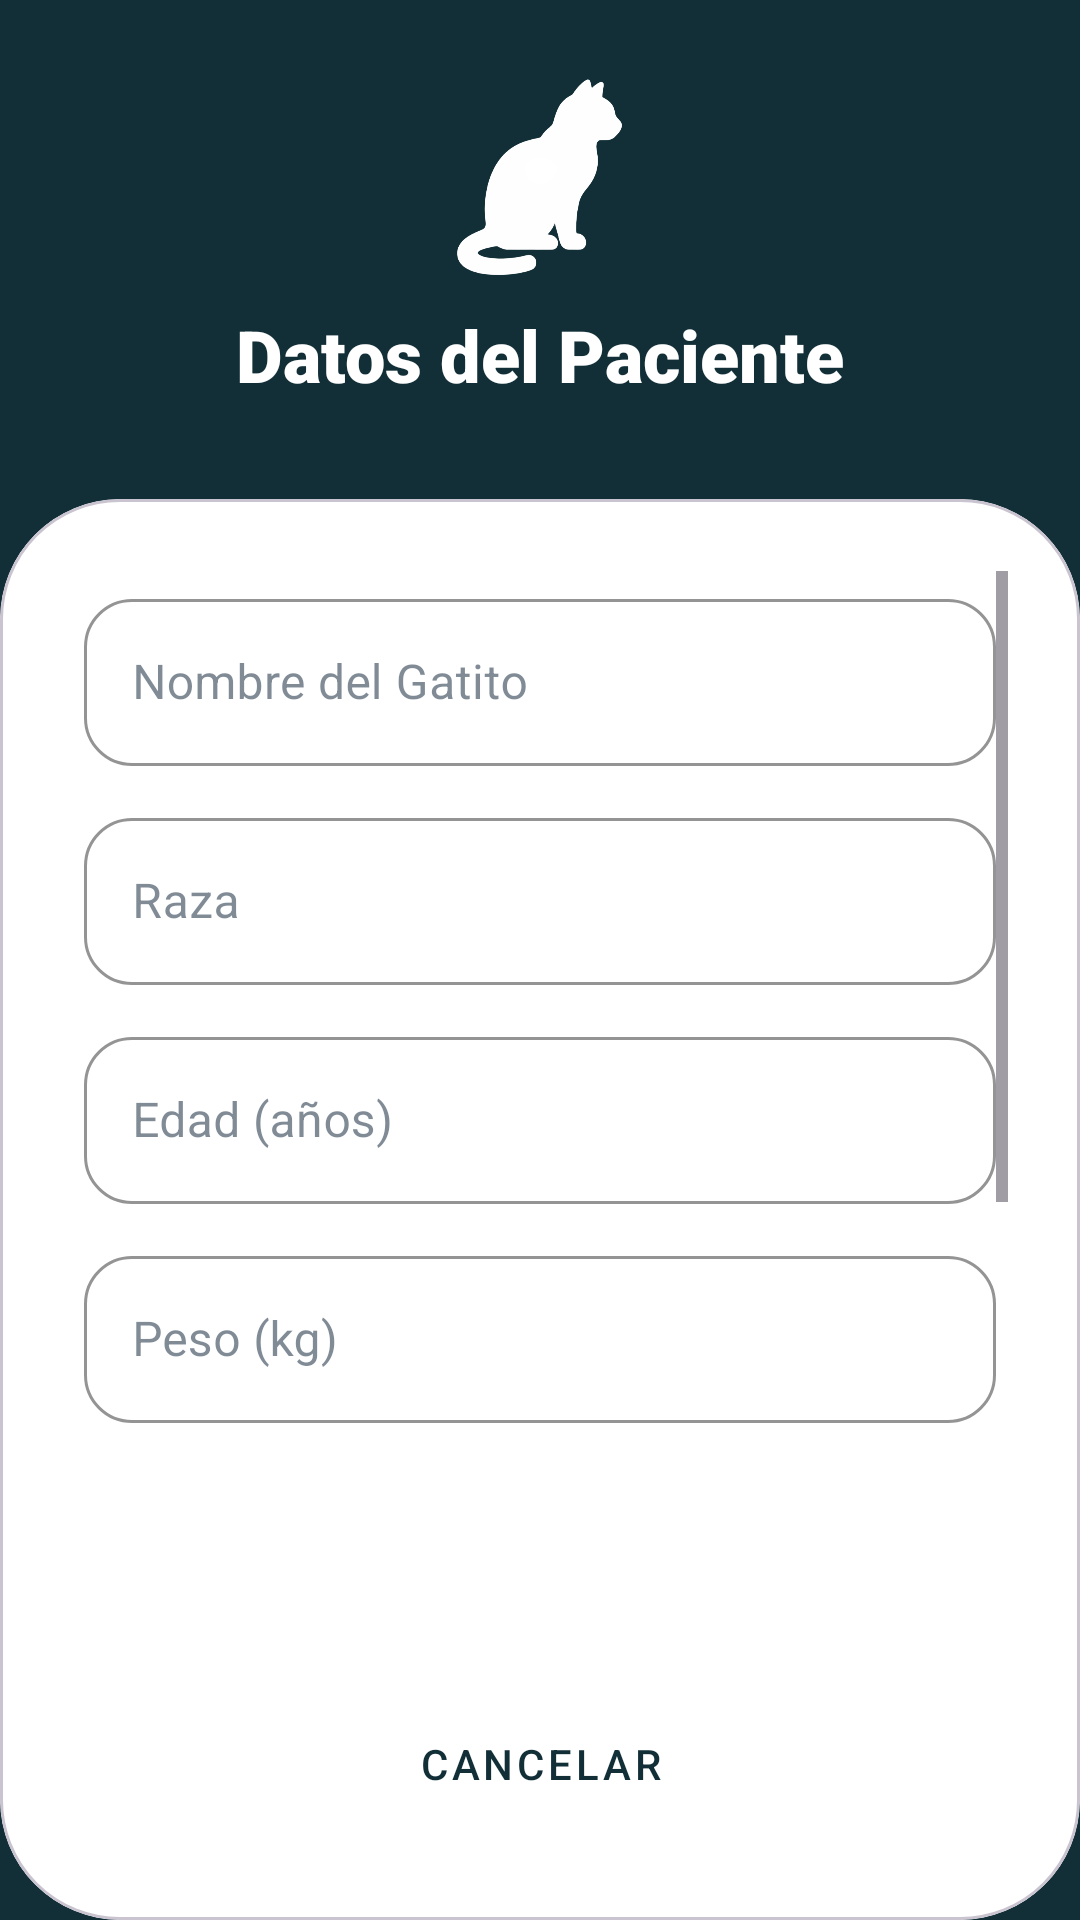

Screen size 1080×1920. Icon name, then its box in pixels as (x1, y1, x2, y2):
cat: (457, 79, 622, 275)
